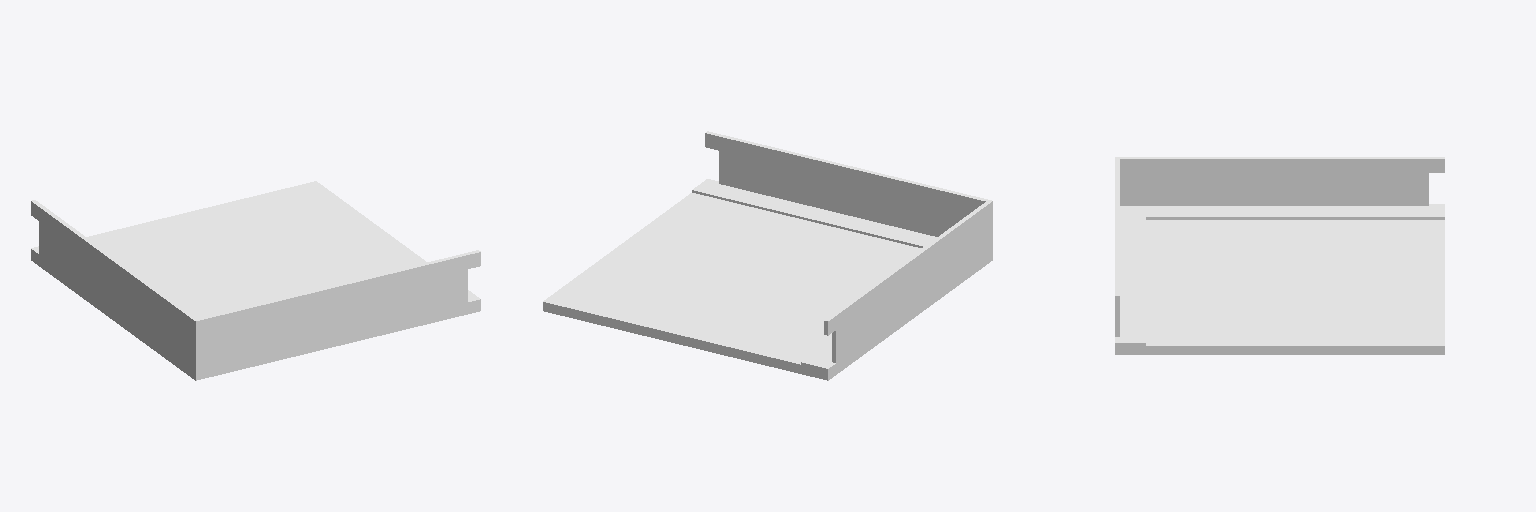
File: RoomScale05-0.obj
The picture shows the model from 3 angles: view 1: azimuth 30°, elevation 25°; view 2: azimuth 150°, elevation 25°; view 3: azimuth 270°, elevation 25°; orthographic projection.
Parts seen in each view (by area): view 1: object 1; view 2: object 1; view 3: object 1.
Boxes of the visible parts, <box> form: object 1: <box>31,181,480,380</box>; object 1: <box>543,131,992,380</box>; object 1: <box>1115,157,1444,354</box>.
Size of the model in its own units: 12.6 by 2.5 by 12.6.